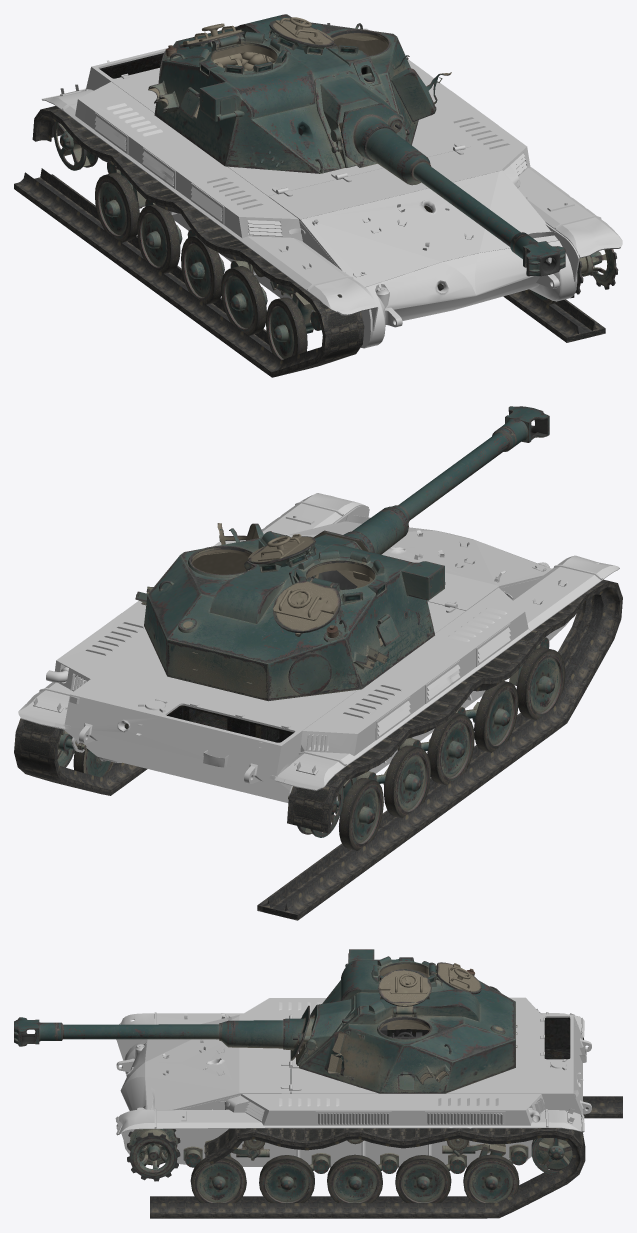
File: AMX ELC bis_CRASHED.fbx
3 renders of one model, top to bottom at view 1: azimuth 30°, elevation 25°; view 2: azimuth 150°, elevation 25°; view 3: azimuth 270°, elevation 25°, orthographic. The views are drawn at different scales.
Visible parts, largest first — view 1: french\F62_ELC_AMX\crash\l\Hull.pri~5~4, french\F62_ELC_AMX\crash\l\Turret_01.pri~5~6, french\F62_ELC_AMX\crash\l\Chassis.pri~5~1, french\F62_ELC_AMX\crash\l\Hull.pri~5~5, french\F62_ELC_AMX\crash\l\Gun_03.pri~5~7, french\F62_ELC_AMX\crash\l\Chassis.pri~5~2, french\F62_ELC_AMX\crash\l\Hull.pri~5~3; view 2: french\F62_ELC_AMX\crash\l\Hull.pri~5~4, french\F62_ELC_AMX\crash\l\Turret_01.pri~5~6, french\F62_ELC_AMX\crash\l\Chassis.pri~5~1, french\F62_ELC_AMX\crash\l\Hull.pri~5~5, french\F62_ELC_AMX\crash\l\Gun_03.pri~5~7, french\F62_ELC_AMX\crash\l\Chassis.pri~5~2, french\F62_ELC_AMX\crash\l\Hull.pri~5~3; view 3: french\F62_ELC_AMX\crash\l\Hull.pri~5~4, french\F62_ELC_AMX\crash\l\Turret_01.pri~5~6, french\F62_ELC_AMX\crash\l\Hull.pri~5~5, french\F62_ELC_AMX\crash\l\Chassis.pri~5~2, french\F62_ELC_AMX\crash\l\Gun_03.pri~5~7, french\F62_ELC_AMX\crash\l\Hull.pri~5~3, french\F62_ELC_AMX\crash\l\Chassis.pri~5~1.
Part boxes in pixels (left/top/right/bottom): french\F62_ELC_AMX\crash\l\Hull.pri~5~4: left=41, top=23, right=622, bottom=348; french\F62_ELC_AMX\crash\l\Turret_01.pri~5~6: left=148, top=14, right=451, bottom=173; french\F62_ELC_AMX\crash\l\Chassis.pri~5~1: left=14, top=106, right=364, bottom=377; french\F62_ELC_AMX\crash\l\Hull.pri~5~5: left=54, top=122, right=618, bottom=360; french\F62_ELC_AMX\crash\l\Gun_03.pri~5~7: left=299, top=103, right=565, bottom=276; french\F62_ELC_AMX\crash\l\Chassis.pri~5~2: left=503, top=289, right=605, bottom=342; french\F62_ELC_AMX\crash\l\Hull.pri~5~3: left=99, top=53, right=443, bottom=290; french\F62_ELC_AMX\crash\l\Hull.pri~5~4: left=18, top=493, right=619, bottom=802; french\F62_ELC_AMX\crash\l\Turret_01.pri~5~6: left=135, top=523, right=445, bottom=701; french\F62_ELC_AMX\crash\l\Chassis.pri~5~1: left=257, top=579, right=622, bottom=920; french\F62_ELC_AMX\crash\l\Hull.pri~5~5: left=57, top=637, right=565, bottom=850; french\F62_ELC_AMX\crash\l\Gun_03.pri~5~7: left=311, top=406, right=549, bottom=589; french\F62_ELC_AMX\crash\l\Chassis.pri~5~2: left=14, top=718, right=147, bottom=795; french\F62_ELC_AMX\crash\l\Hull.pri~5~3: left=124, top=705, right=293, bottom=742; french\F62_ELC_AMX\crash\l\Hull.pri~5~4: left=115, top=997, right=591, bottom=1168; french\F62_ELC_AMX\crash\l\Turret_01.pri~5~6: left=296, top=949, right=517, bottom=1093; french\F62_ELC_AMX\crash\l\Hull.pri~5~5: left=127, top=1128, right=572, bottom=1202; french\F62_ELC_AMX\crash\l\Chassis.pri~5~2: left=150, top=1128, right=585, bottom=1218; french\F62_ELC_AMX\crash\l\Gun_03.pri~5~7: left=14, top=1005, right=422, bottom=1060; french\F62_ELC_AMX\crash\l\Hull.pri~5~3: left=290, top=1017, right=570, bottom=1093; french\F62_ELC_AMX\crash\l\Chassis.pri~5~1: left=583, top=1037, right=622, bottom=1118.
Size of the model in its own units: 2.48 by 1.83 by 5.45.
